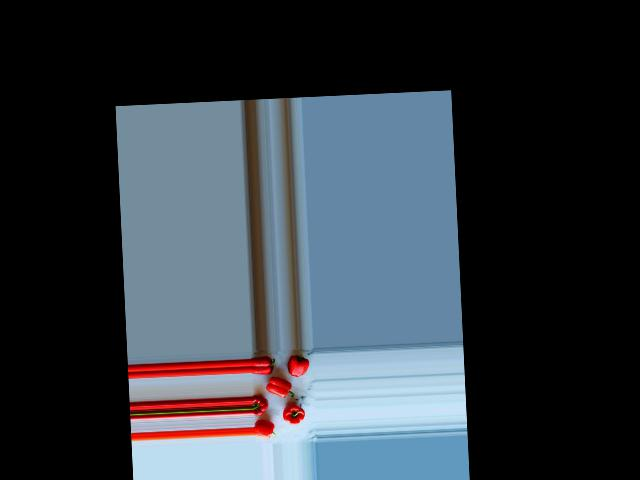bell_pepper: (252, 393, 269, 415)
